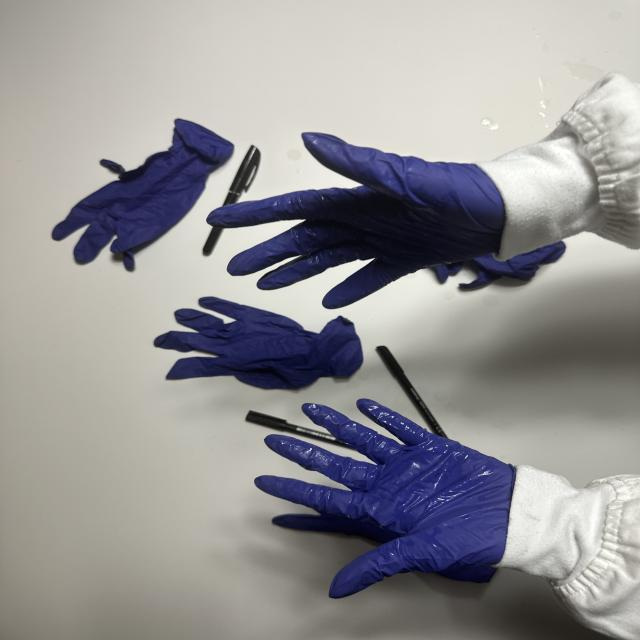gloves_contaminated: (212, 134, 505, 308), (255, 400, 515, 596)
